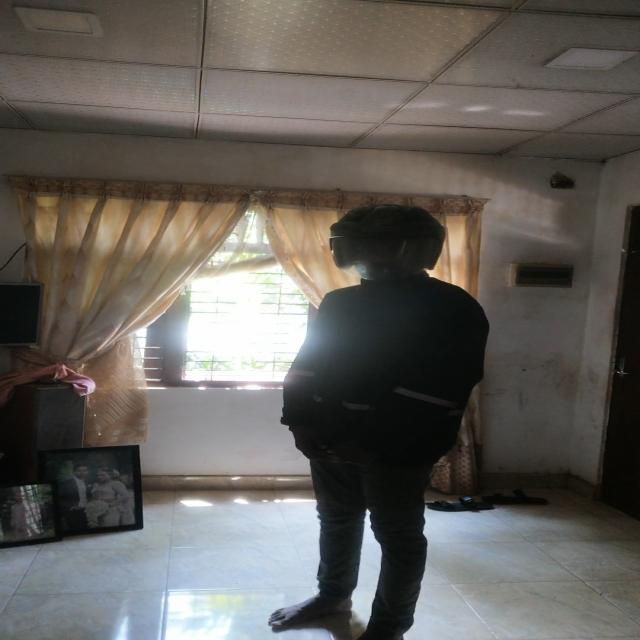Helmet_Wearer: (296, 198, 452, 287)
Jacket_Wearer: (278, 278, 486, 488)
Person: (258, 202, 493, 640)
